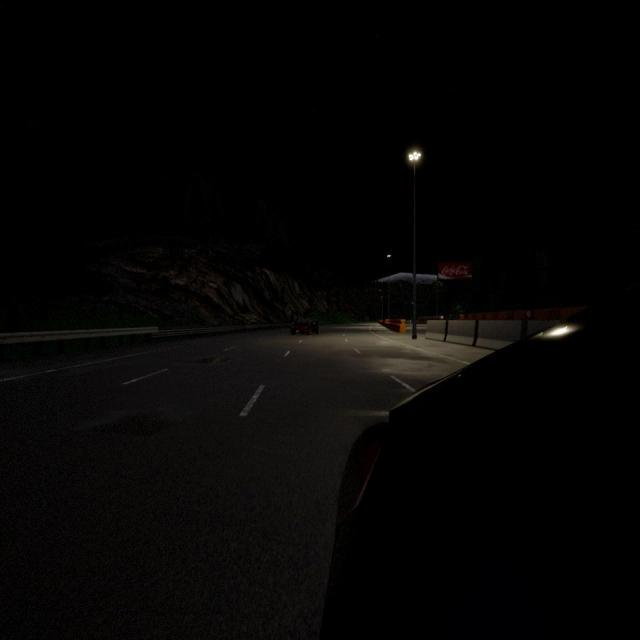Vehicle: (321, 286, 639, 638), (290, 314, 319, 335)
